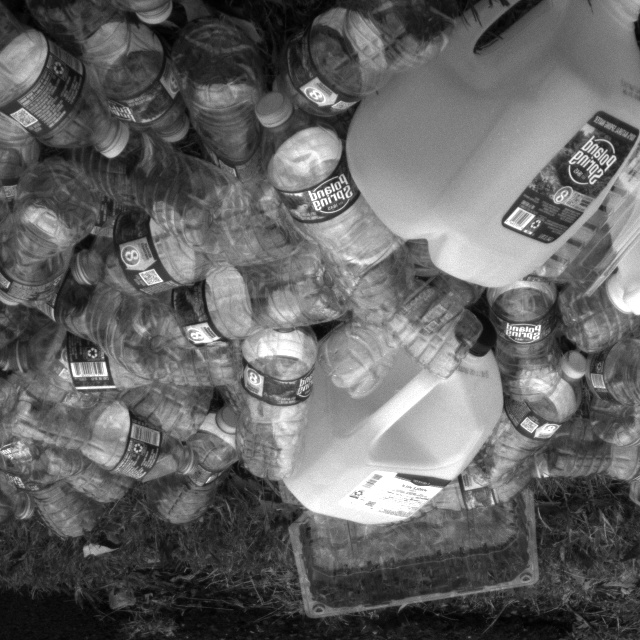bottle: (252, 90, 398, 328), (68, 166, 300, 300), (12, 373, 202, 483), (0, 0, 130, 158), (10, 310, 251, 395), (462, 345, 589, 486)
can: (341, 0, 640, 293), (280, 303, 507, 521)
container: (285, 490, 544, 628)
